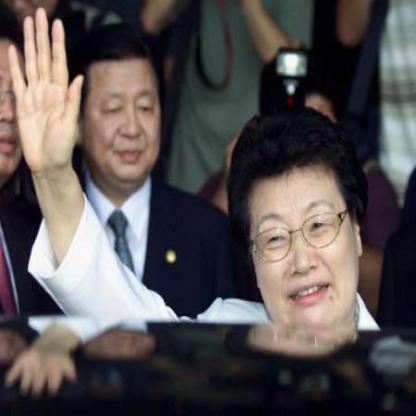face: (247, 124, 358, 345), (82, 30, 166, 189)
